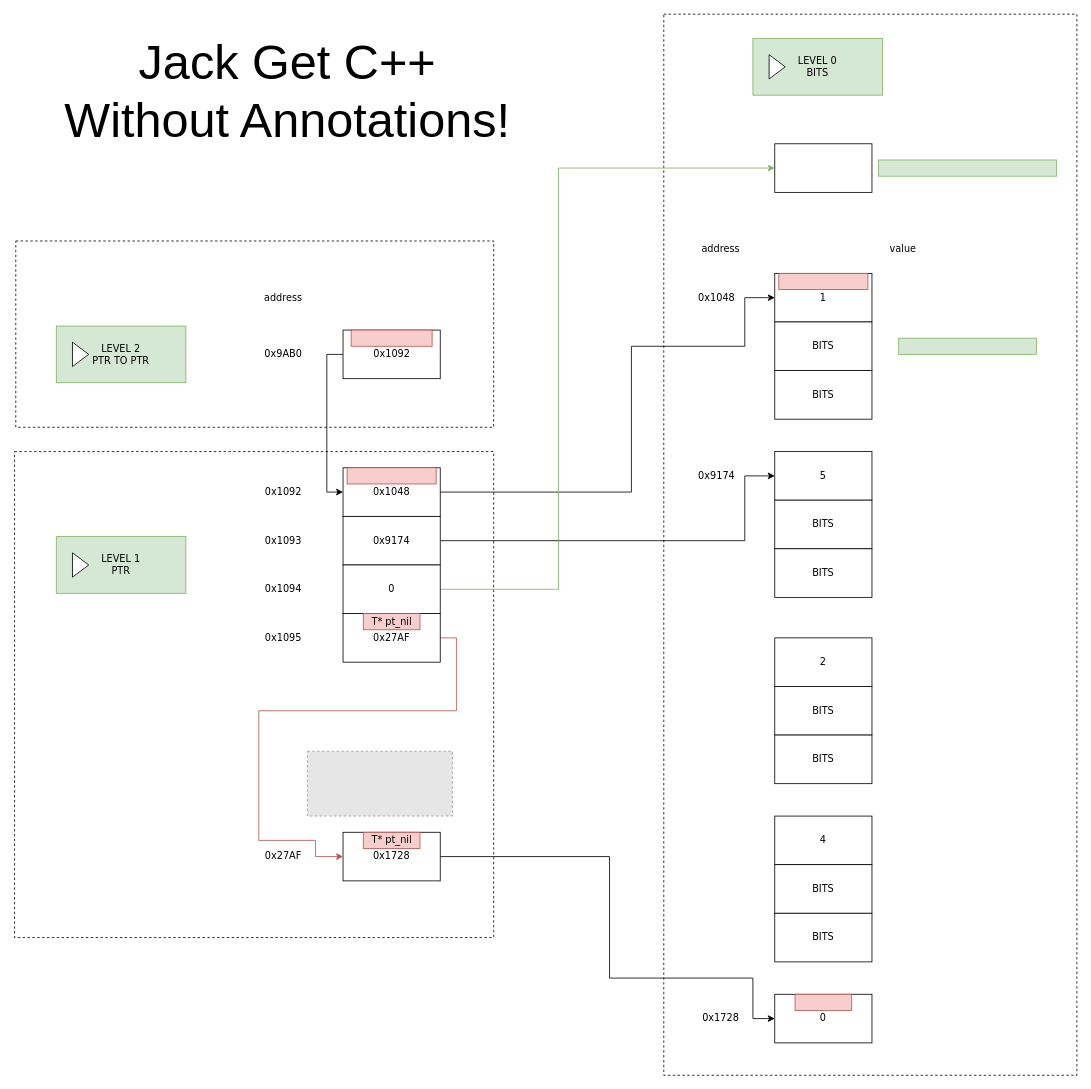
This 1091x1089 diagram has some shape labels left out. Grey dashed boxes stand in for pictures. The box of each missing label's shape, as (x1, y1, x2, y2) in pixels:
(T) **reprarray: (778, 273, 868, 290)
(T) *pt0: (794, 993, 852, 1010)
(T*) *reprarray: (346, 467, 436, 484)
0x0000: (774, 143, 872, 192)
Most compilers take NULL to be 0.: (878, 159, 1057, 176)
T** reprarray: (350, 329, 432, 346)
We assume that T == int.: (898, 337, 1036, 354)
